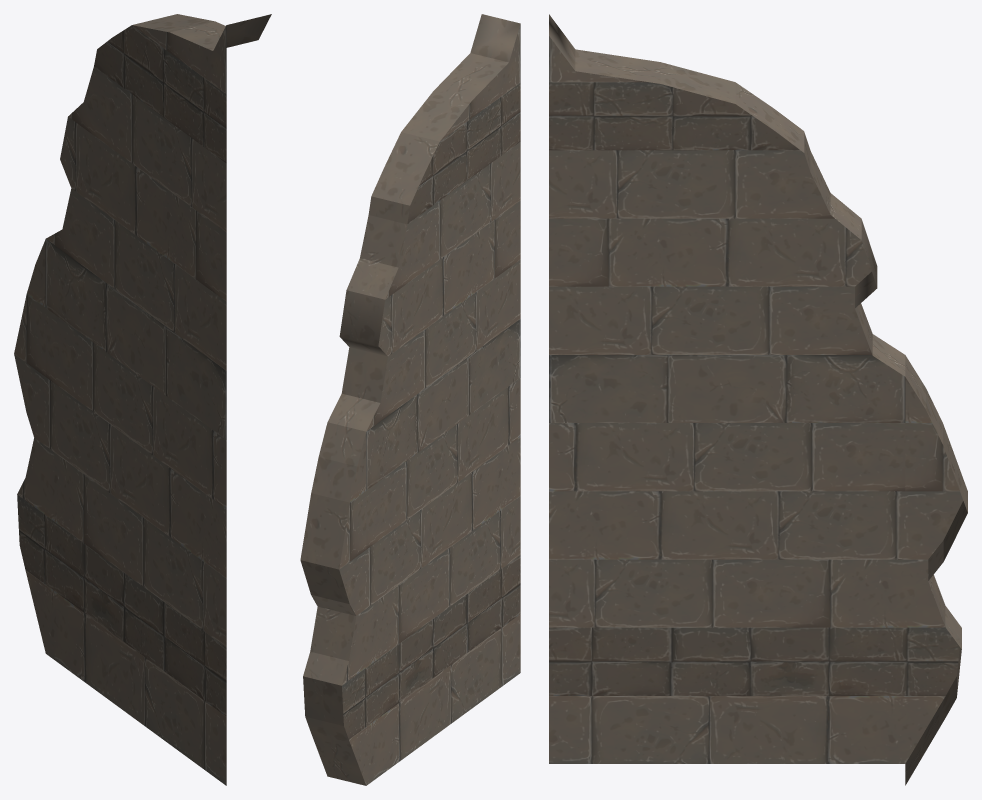
Rendered from Ruins_BaseWall_Broken_02a.fbx.
The picture shows the model from 3 angles, left to right: view 1: azimuth 30°, elevation 25°; view 2: azimuth 150°, elevation 25°; view 3: azimuth 270°, elevation 25°; orthographic projection. The views are drawn at different scales.
Visible parts, largest first — view 1: Ruins_BaseWall_Broken_02a; view 2: Ruins_BaseWall_Broken_02a; view 3: Ruins_BaseWall_Broken_02a.
Part boxes in pixels (x1=…): Ruins_BaseWall_Broken_02a: x1=14, y1=14, x2=271, y2=785; Ruins_BaseWall_Broken_02a: x1=300, y1=14, x2=520, y2=785; Ruins_BaseWall_Broken_02a: x1=549, y1=14, x2=967, y2=785.
Size of the model in its own units: 0.5 by 8 by 4.05.
Materials: 1 (1 with a texture image).
